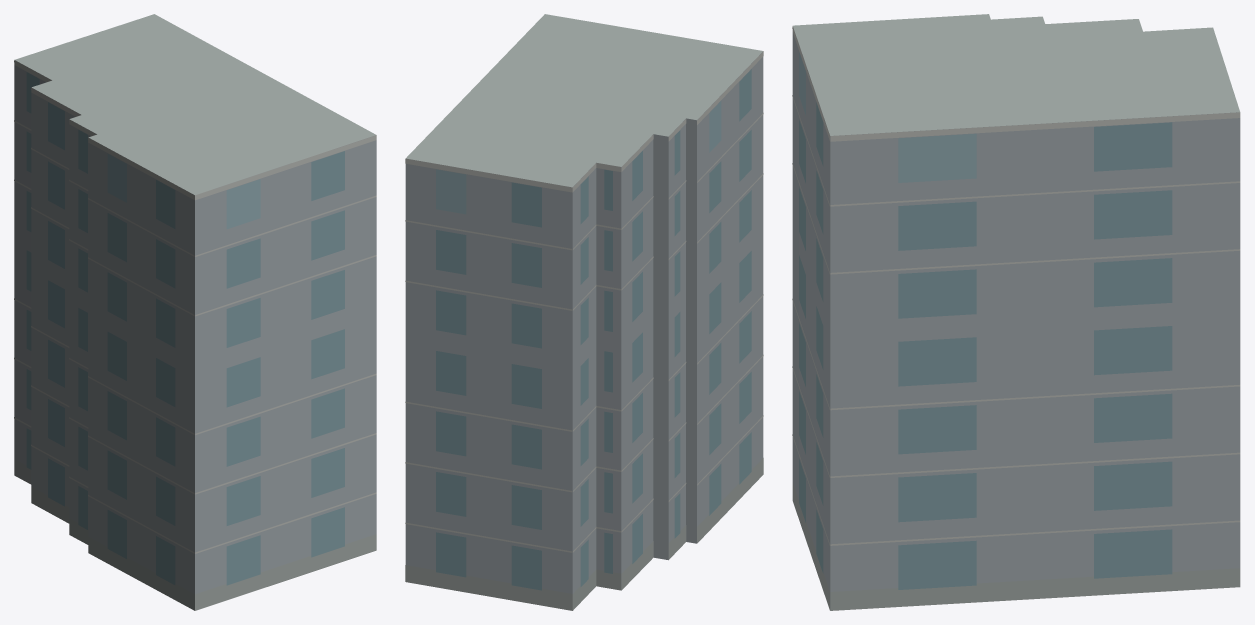
File: survey-upis-32743496.glb
The picture shows the model from 3 angles, left to right: view 1: azimuth 30°, elevation 25°; view 2: azimuth 150°, elevation 25°; view 3: azimuth 270°, elevation 25°; orthographic projection. The views are drawn at different scales.
Parts seen in each view (by area): view 1: survey-upis-32743496.tmp; view 2: survey-upis-32743496.tmp; view 3: survey-upis-32743496.tmp.
Boxes of the visible parts, box(x1,y1,x2,y2) form: survey-upis-32743496.tmp: box(14, 14, 376, 610); survey-upis-32743496.tmp: box(405, 14, 763, 610); survey-upis-32743496.tmp: box(792, 14, 1240, 610).
Size of the model in its own units: 10.99 by 19.9 by 17.03.
